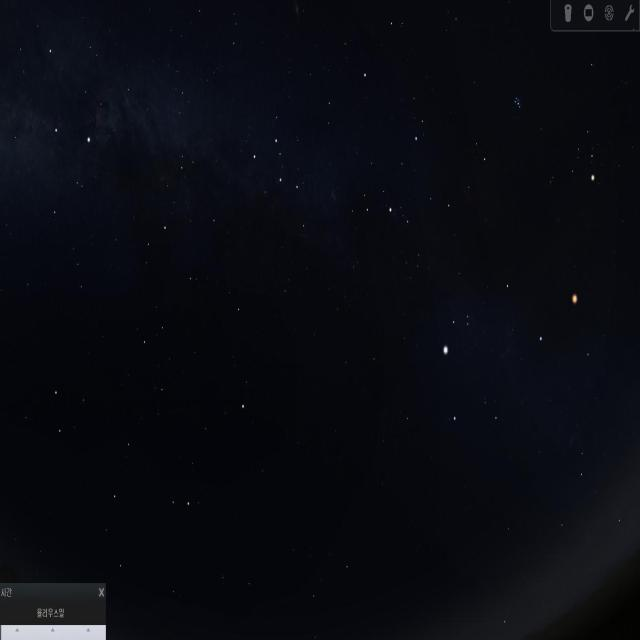cassiopeia: (246, 119, 321, 250)
pleiades: (509, 83, 524, 118)
